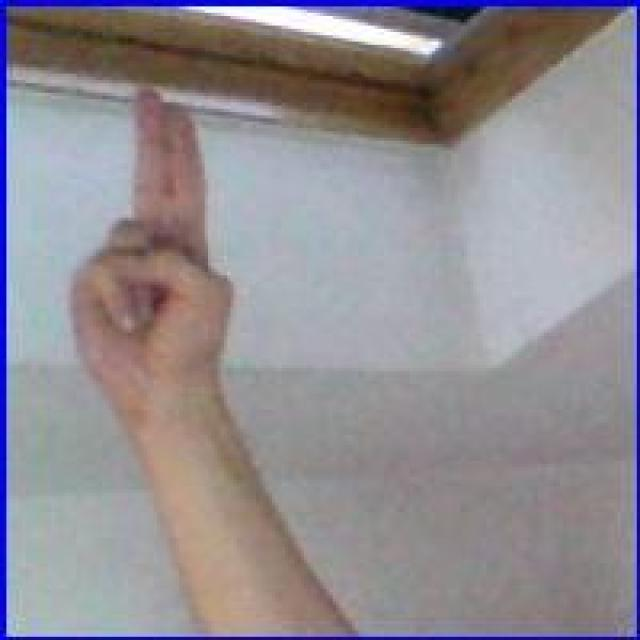U: (56, 70, 245, 393)
